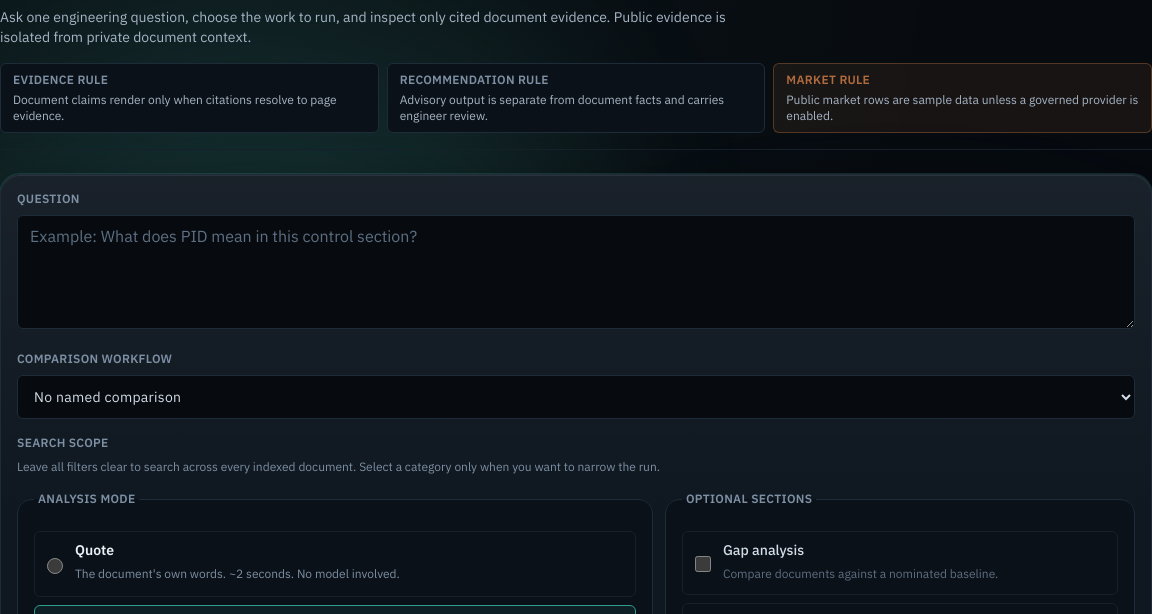
Test: Quote mode: the reader can tell that Quote ran and what it produced › does NOT claim quote mode in Focused, where a model did write the summary
This screenshot has width=1152, height=614.
Click the checkbox labelled "Gap analysis Compare documents against a nominated baseline.".
click(703, 564)  # box [695,542,711,586]
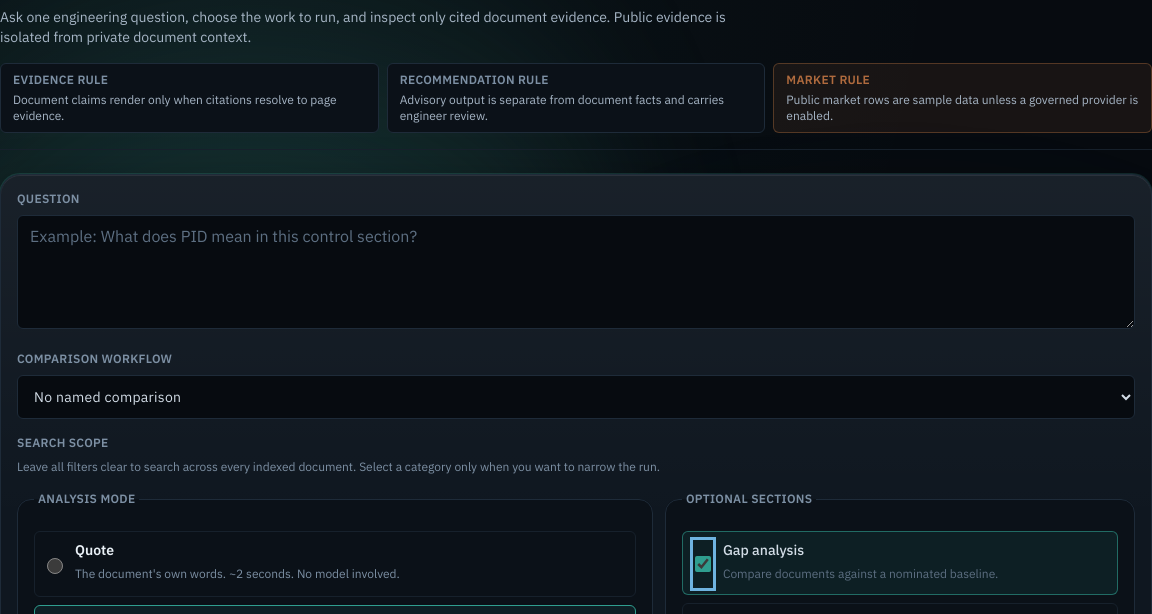
Type "what is the pressure floor" into the text box labelled "Question".
click(576, 272); type("what is the pressure floor")  # box [17,215,1135,329]
(page scrolled)
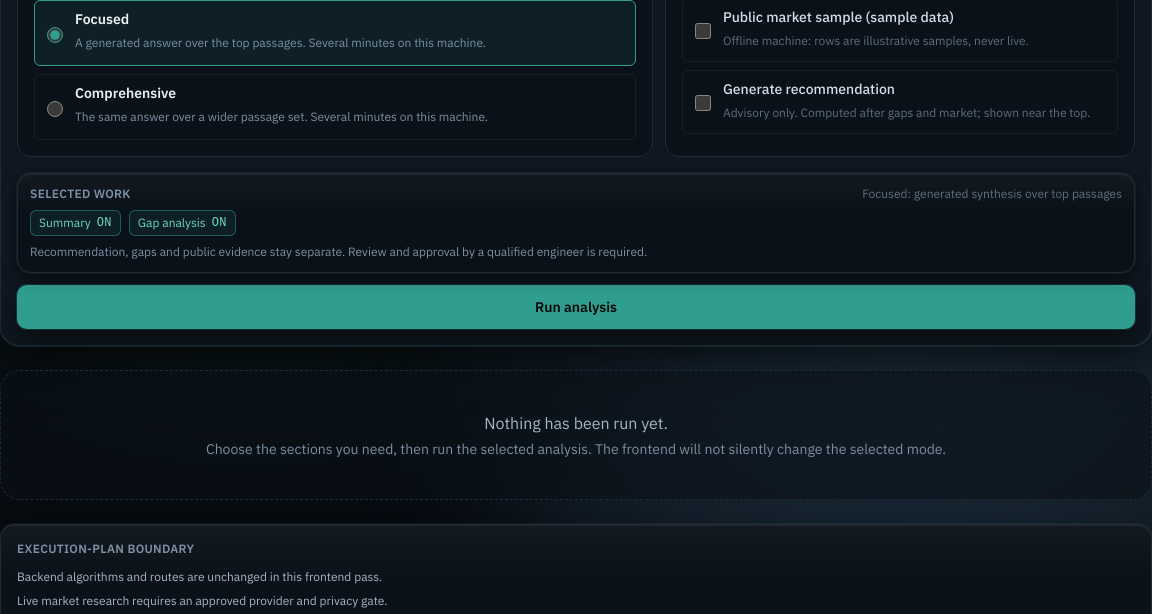
Click the button "Run analysis".
click(576, 307)  # box [17,285,1135,329]
(page scrolled)
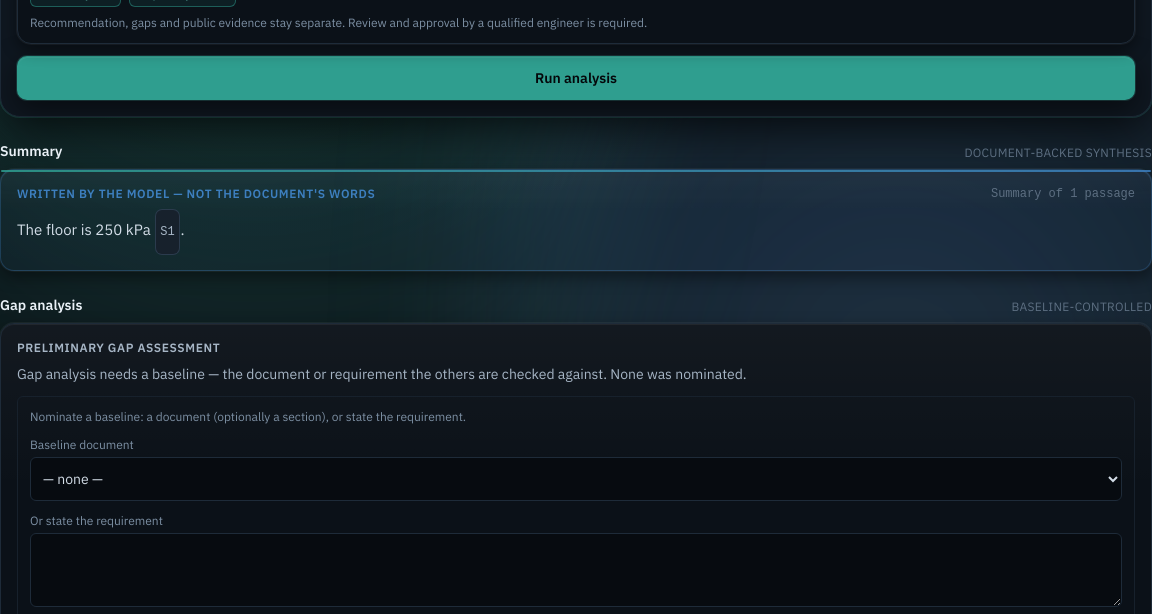
Now the text "baseline-controlled" is shown, box [1011,299,1151,315]
